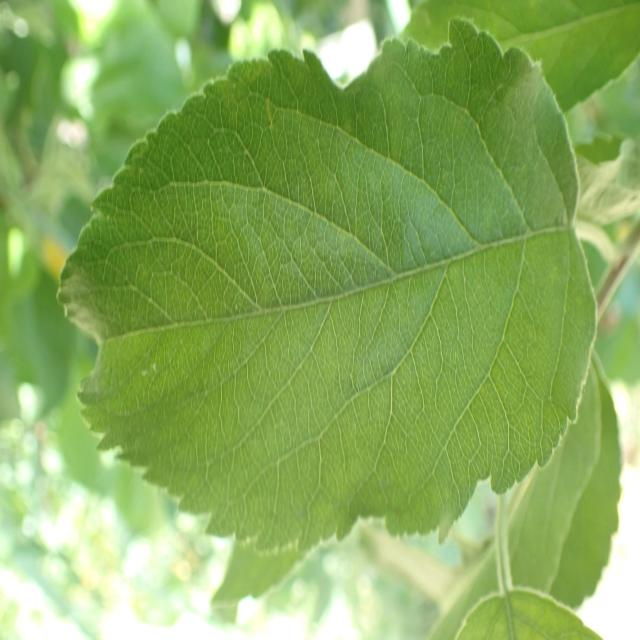healthy: (58, 22, 597, 554), (397, 0, 640, 114)
